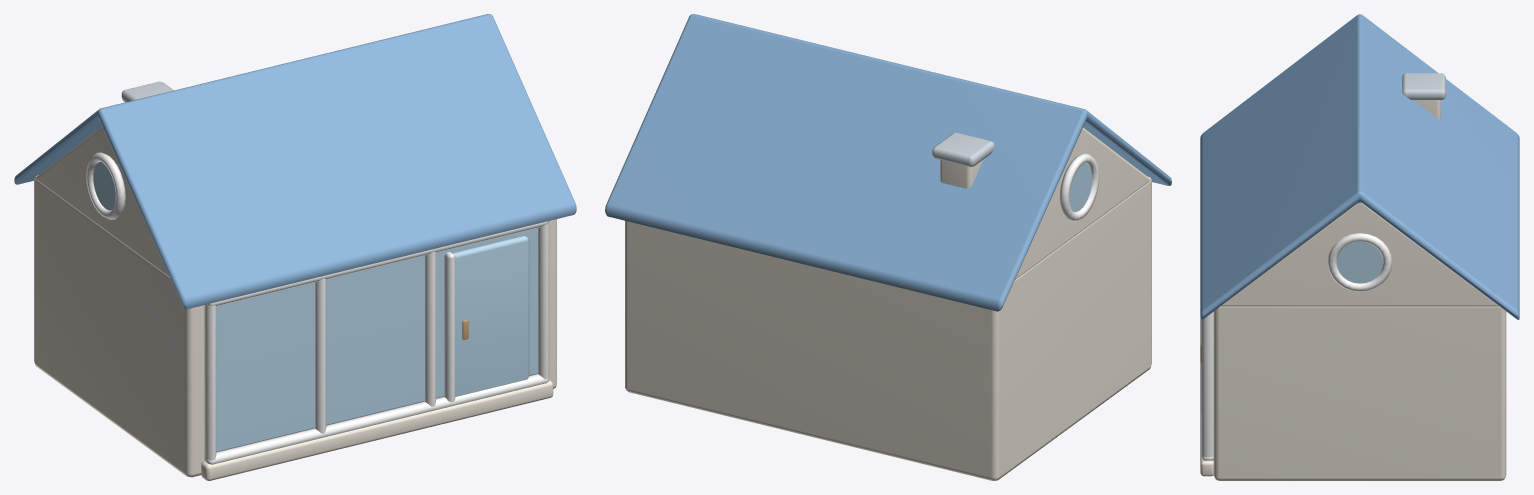
Rendered from workshop.glb.
3 renders of one model, left to right at view 1: azimuth 30°, elevation 25°; view 2: azimuth 150°, elevation 25°; view 3: azimuth 270°, elevation 25°, orthographic. The views are drawn at different scales.
Visible parts, largest first — view 1: workshop_structure; view 2: workshop_structure; view 3: workshop_structure.
Boxes of the visible parts, <box> form: workshop_structure: <box>14,14,576,480</box>; workshop_structure: <box>605,14,1171,480</box>; workshop_structure: <box>1200,14,1519,480</box>.
Bounding box in the file's own units: 6 × 4.6 × 4.5.
